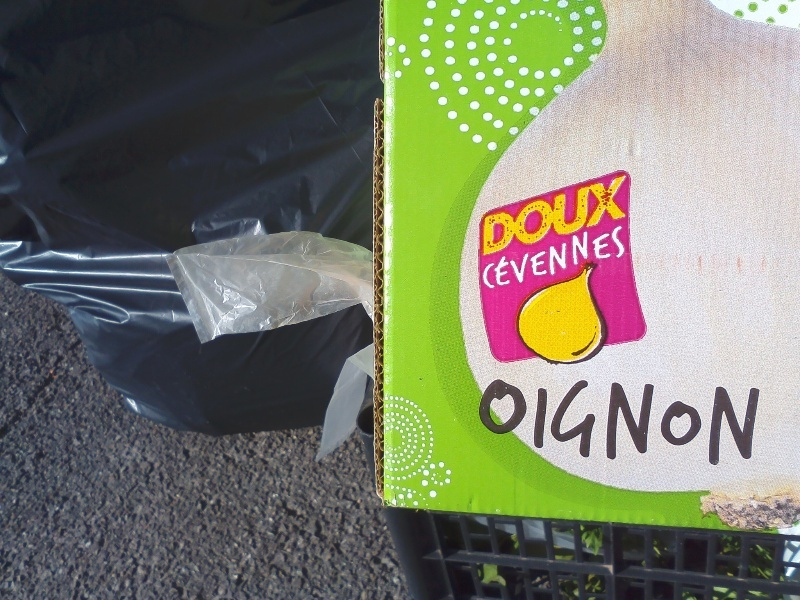text: (481, 371, 496, 470), (497, 371, 512, 470), (513, 371, 528, 470), (529, 371, 544, 470), (545, 371, 560, 470), (561, 371, 576, 470), (577, 371, 592, 470), (593, 371, 608, 470), (609, 371, 624, 470), (625, 371, 640, 470), (641, 371, 656, 470), (657, 371, 672, 470), (673, 371, 688, 470), (689, 371, 704, 470), (705, 371, 720, 470), (721, 371, 736, 470), (737, 371, 752, 470), (497, 173, 512, 259), (513, 173, 528, 259), (529, 173, 544, 259), (545, 173, 560, 259), (561, 173, 576, 259), (577, 173, 592, 259), (593, 173, 608, 259), (609, 173, 624, 259), (483, 173, 496, 259), (481, 221, 496, 295), (497, 221, 512, 295), (513, 221, 528, 295), (529, 221, 544, 295), (545, 221, 560, 295), (561, 221, 576, 295), (577, 221, 592, 295), (593, 221, 608, 295), (609, 221, 624, 295), (753, 371, 762, 470), (625, 173, 629, 259), (625, 221, 629, 295), (477, 221, 480, 295), (479, 371, 480, 470)
